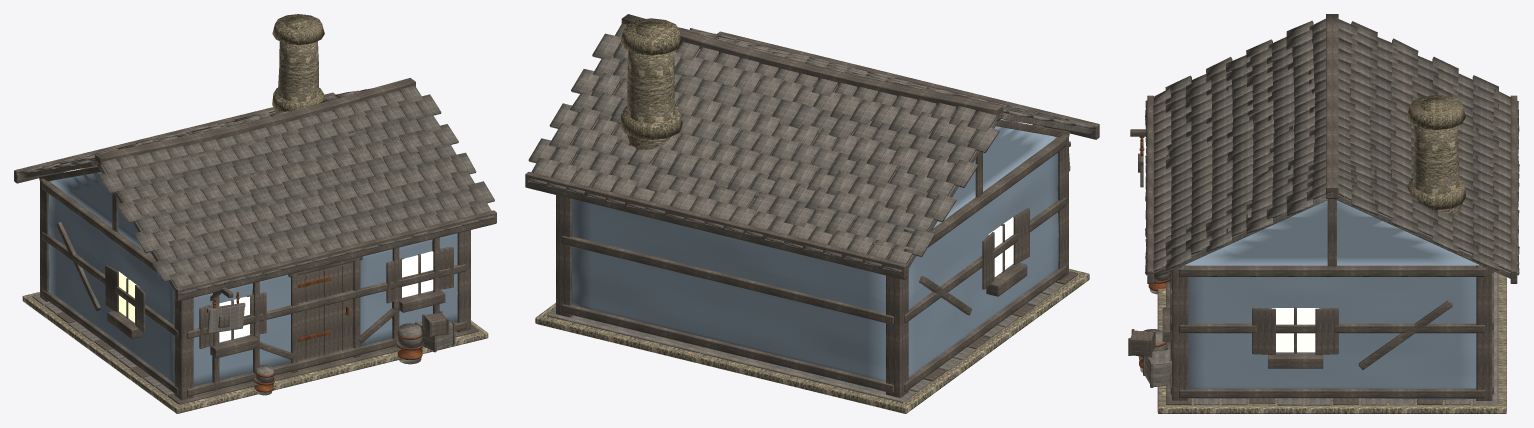
The model's file is tavern.glb.
3 views of the same model, side by side, from view 1: azimuth 30°, elevation 25°; view 2: azimuth 150°, elevation 25°; view 3: azimuth 270°, elevation 25° (orthographic). The views are drawn at different scales.
Visible parts, largest first — view 1: tavern, door; view 2: tavern; view 3: tavern.
Boxes of the visible parts, x1,y1,x2,y2 form: tavern: [14, 14, 496, 413]; door: [298, 262, 353, 369]; tavern: [525, 14, 1099, 413]; tavern: [1128, 14, 1519, 413].
Bounding box in the file's own units: 9.05 × 6.32 × 8.18.
Materials: 5 (4 with a texture image).
